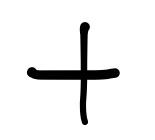plus: (26, 20, 119, 124)
